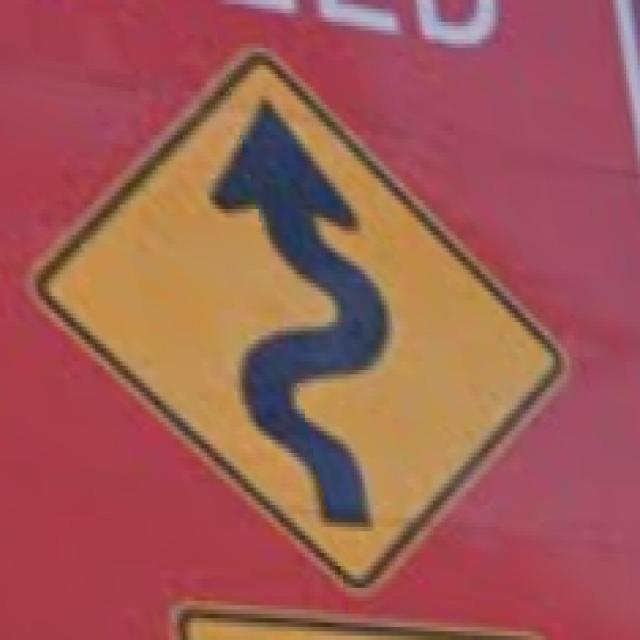Banyak Tikungan Pertama Kiri: (14, 30, 577, 601)
